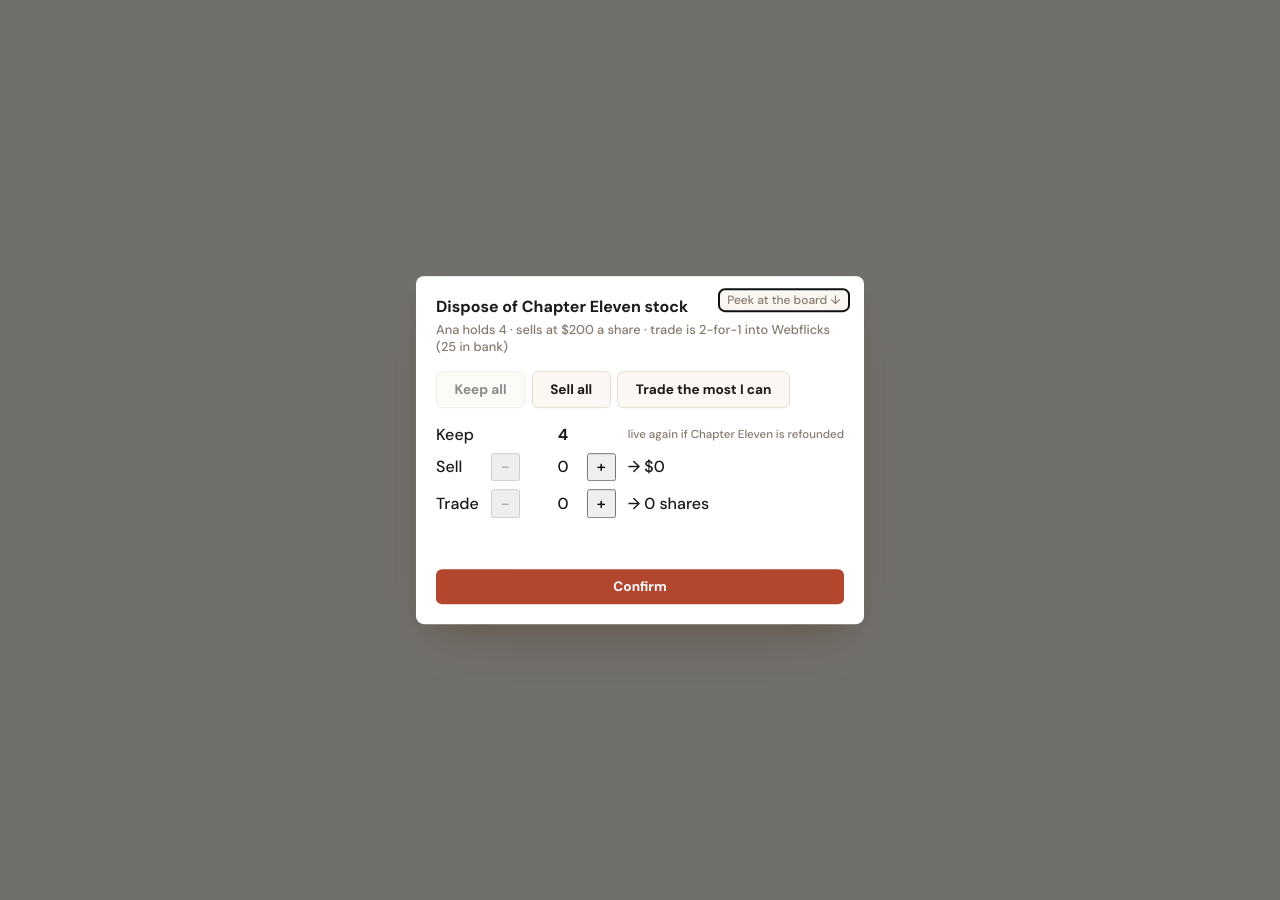
Scenario: DecisionModal › shows what the shares are worth: the per-share price and the live sale value
Expected: the text "sells at $200 a share" is shown, [436, 321, 830, 355]
Expected: the text "→ $0" is shown, [628, 457, 665, 478]
Step 1. Click the button named "sell more" → (601, 467), box [587, 453, 616, 482]
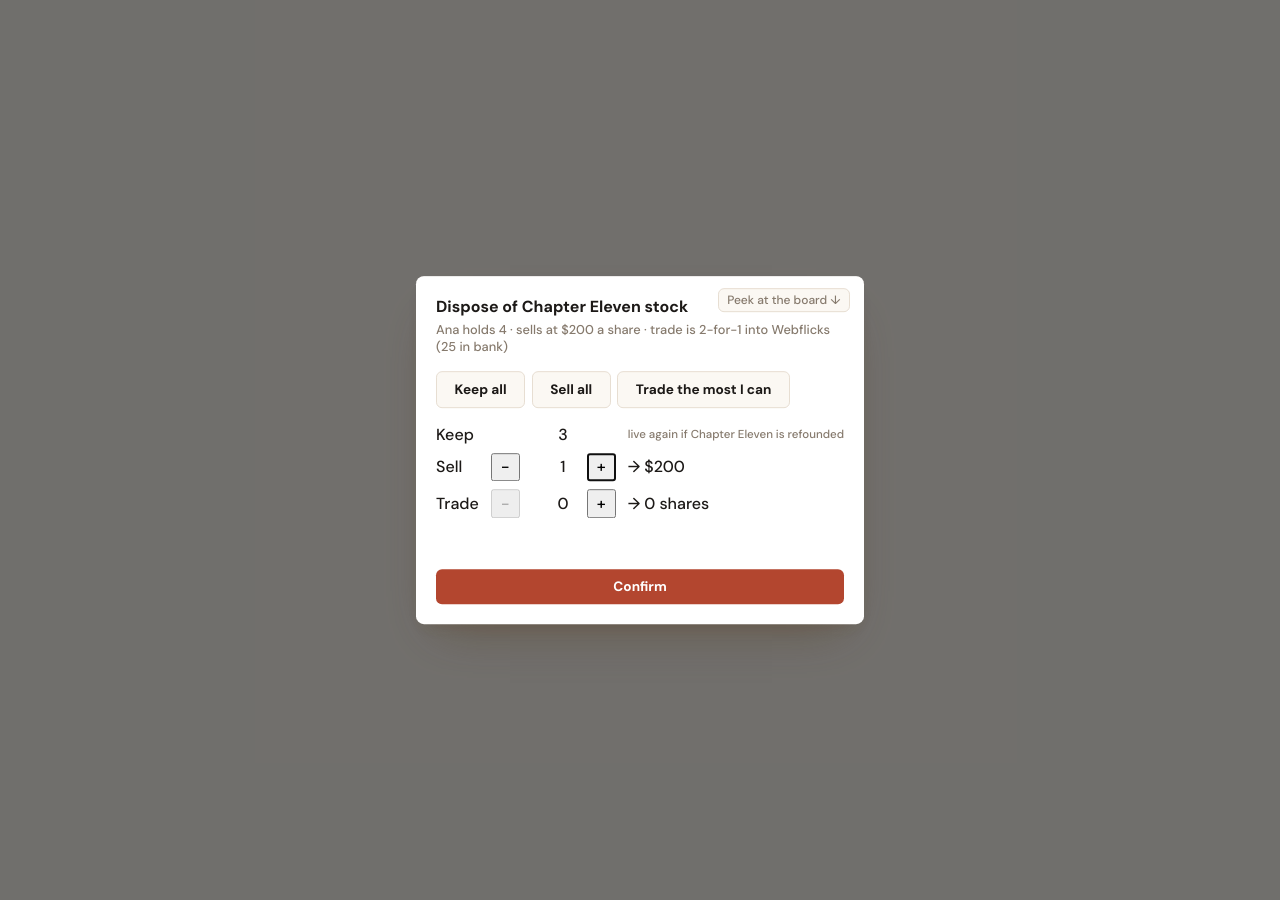
Now the text "→ $200" is shown, box [628, 457, 685, 478]
Step 2. Click the button named "sell more" → (601, 467), box [587, 453, 616, 482]
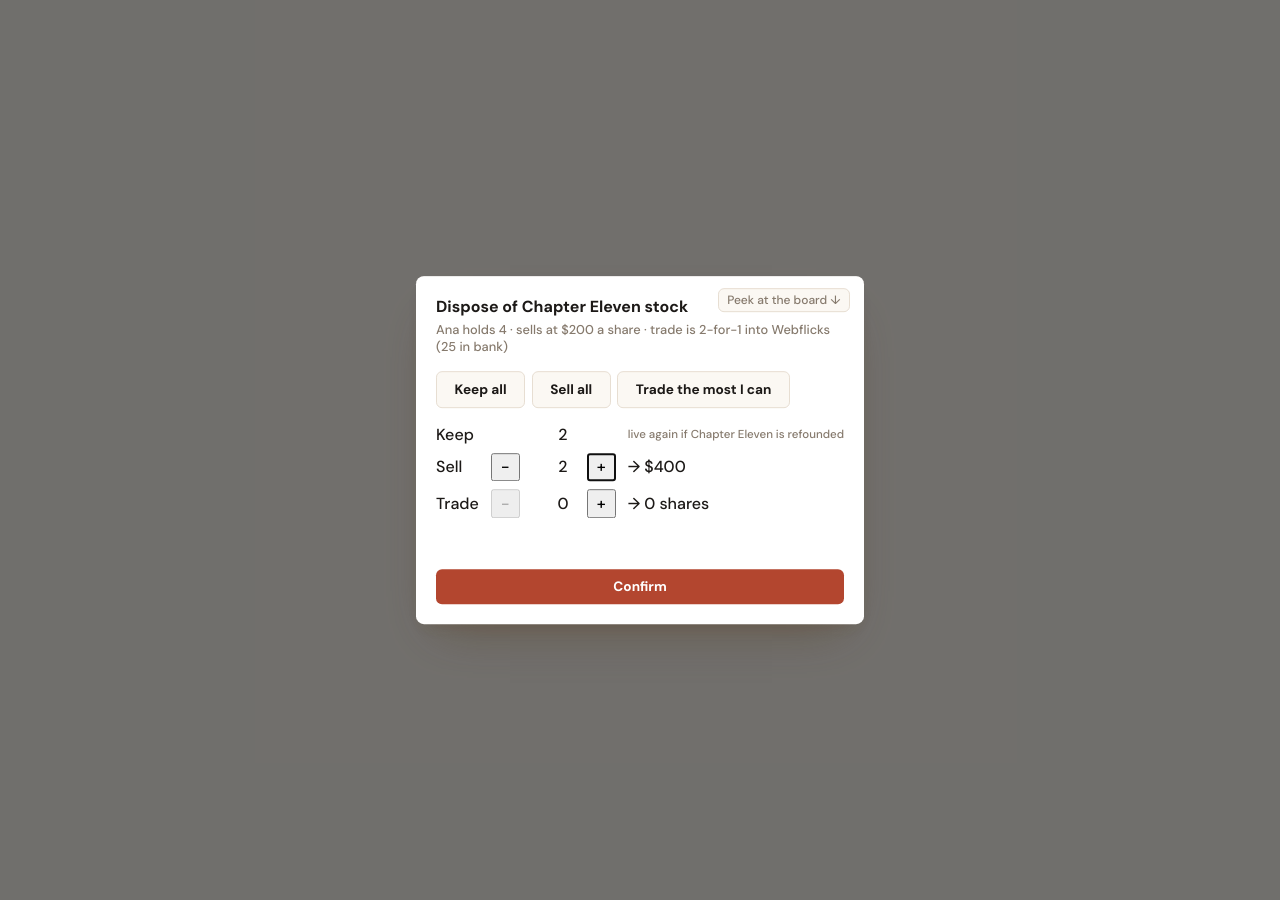
Now the text "→ $400" is shown, box [628, 457, 686, 478]
